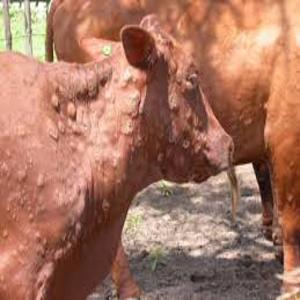lumpy skin diesease: (0, 12, 239, 299), (262, 0, 299, 299)
